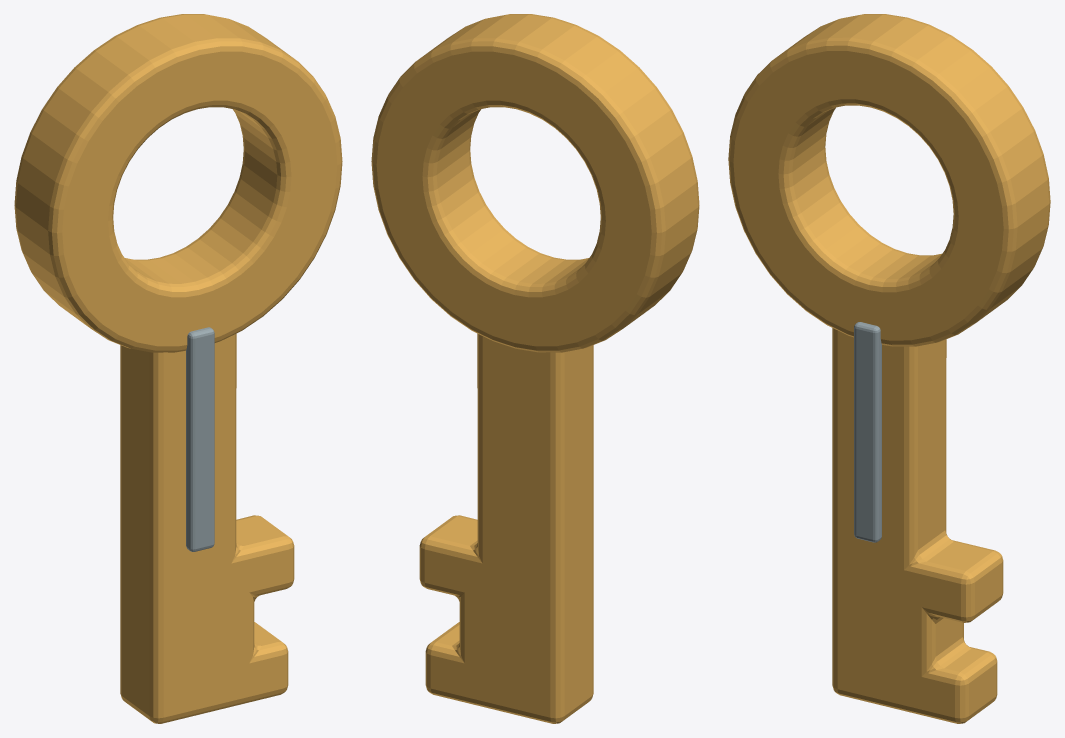
Rendered from visitor.glb.
The picture shows the model from 3 angles, left to right: view 1: azimuth 30°, elevation 25°; view 2: azimuth 150°, elevation 25°; view 3: azimuth 330°, elevation 25°; orthographic projection.
Visible parts, largest first — view 1: Circular bow, Notched shaft, Shaft spine; view 2: Circular bow, Notched shaft; view 3: Circular bow, Notched shaft, Shaft spine.
Part boxes in pixels (<box>): Circular bow: <box>14,14,342,352</box>; Notched shaft: <box>120,333,294,723</box>; Shaft spine: <box>186,327,214,551</box>; Circular bow: <box>371,14,699,352</box>; Notched shaft: <box>419,333,593,723</box>; Circular bow: <box>728,14,1050,346</box>; Notched shaft: <box>832,328,1003,723</box>; Shaft spine: <box>854,322,881,542</box>.
Size of the model in its own units: 0.294 by 0.647 by 0.081.
